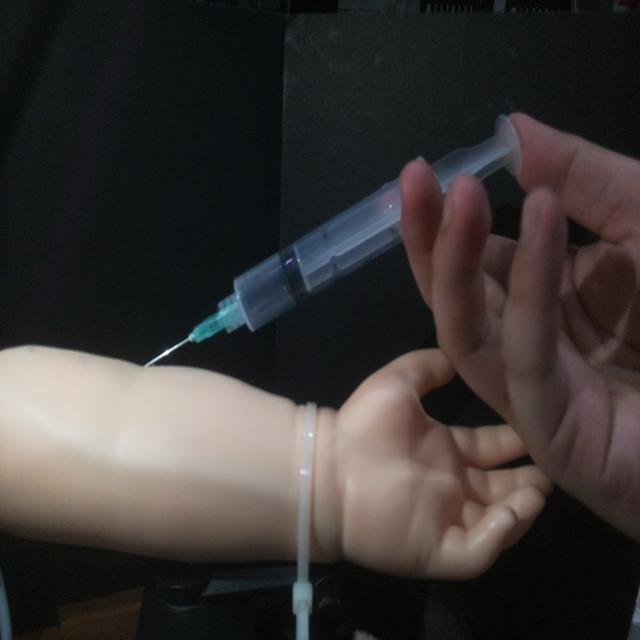27deg: (139, 109, 526, 370)
